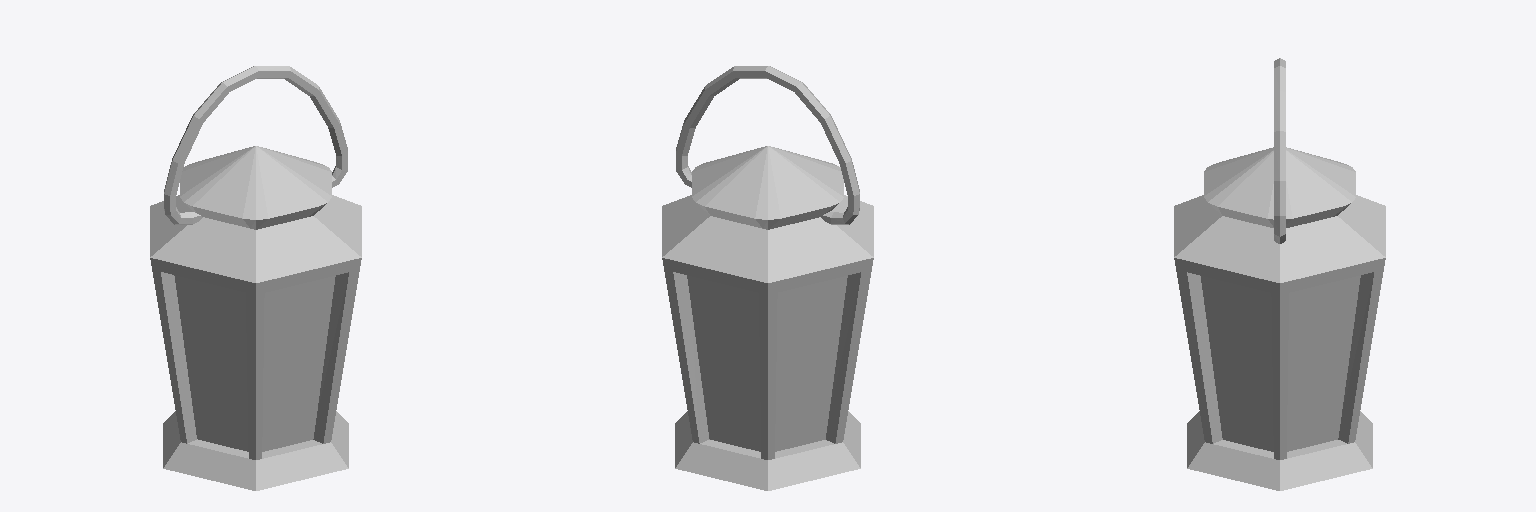
File: Lantern.obj
3 renders of one model, left to right at view 1: azimuth 30°, elevation 25°; view 2: azimuth 150°, elevation 25°; view 3: azimuth 270°, elevation 25°, orthographic.
Visible parts, largest first — view 1: Standard.12_Mesh_0, Standard.13_Mesh_1; view 2: Standard.12_Mesh_0, Standard.13_Mesh_1; view 3: Standard.12_Mesh_0, Standard.13_Mesh_1.
Boxes of the visible parts, x1=… form: Standard.12_Mesh_0: x1=150, y1=66, x2=361, y2=490; Standard.13_Mesh_1: x1=174, y1=275, x2=335, y2=451; Standard.12_Mesh_0: x1=662, y1=66, x2=873, y2=490; Standard.13_Mesh_1: x1=687, y1=275, x2=847, y2=451; Standard.12_Mesh_0: x1=1174, y1=58, x2=1385, y2=490; Standard.13_Mesh_1: x1=1201, y1=275, x2=1360, y2=451.
Size of the model in its own units: 0.7798 by 1.34 by 0.6753.